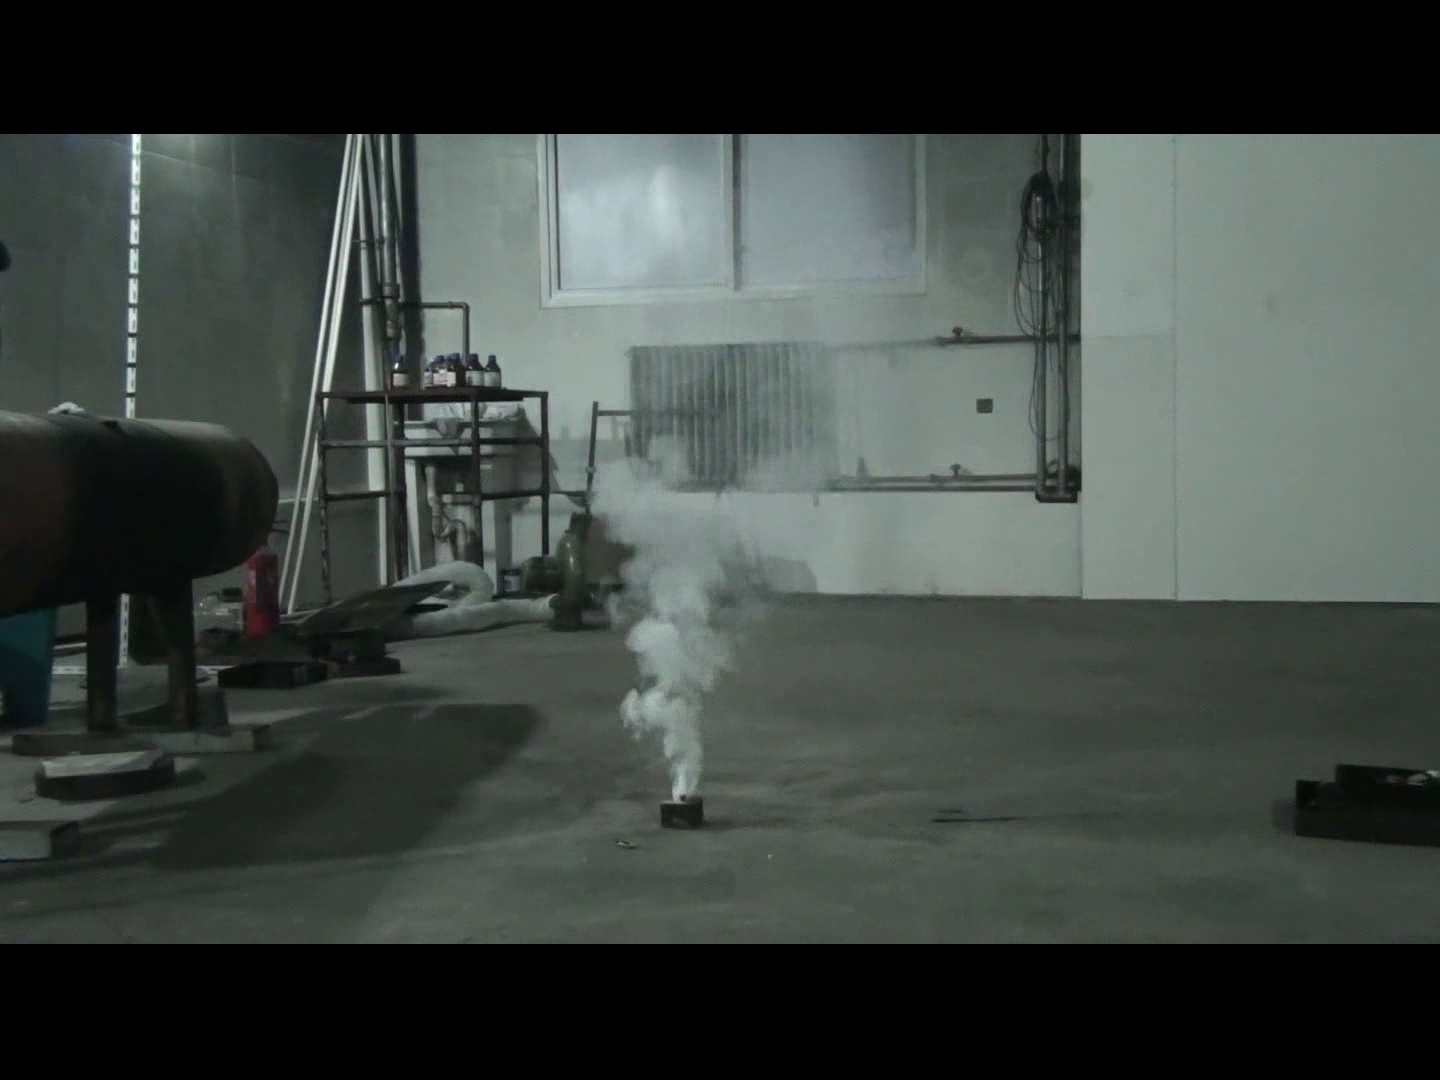smoke: (566, 406, 853, 799)
